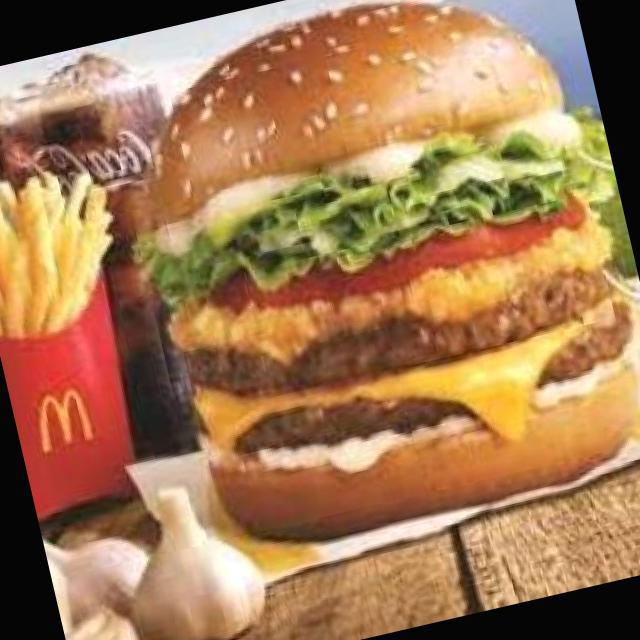Burger: (85, 0, 640, 569)
